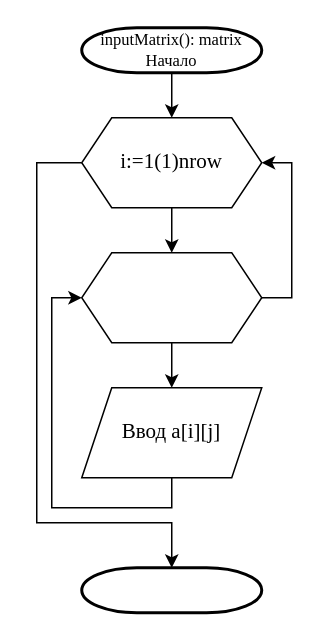
This 330x639 diagram has some shape labels left out. Each missing label, with the box of its shape:
inputMatrix Конец: (80, 566, 262, 614)
j:=1(1)ncol: (80, 251, 262, 343)
